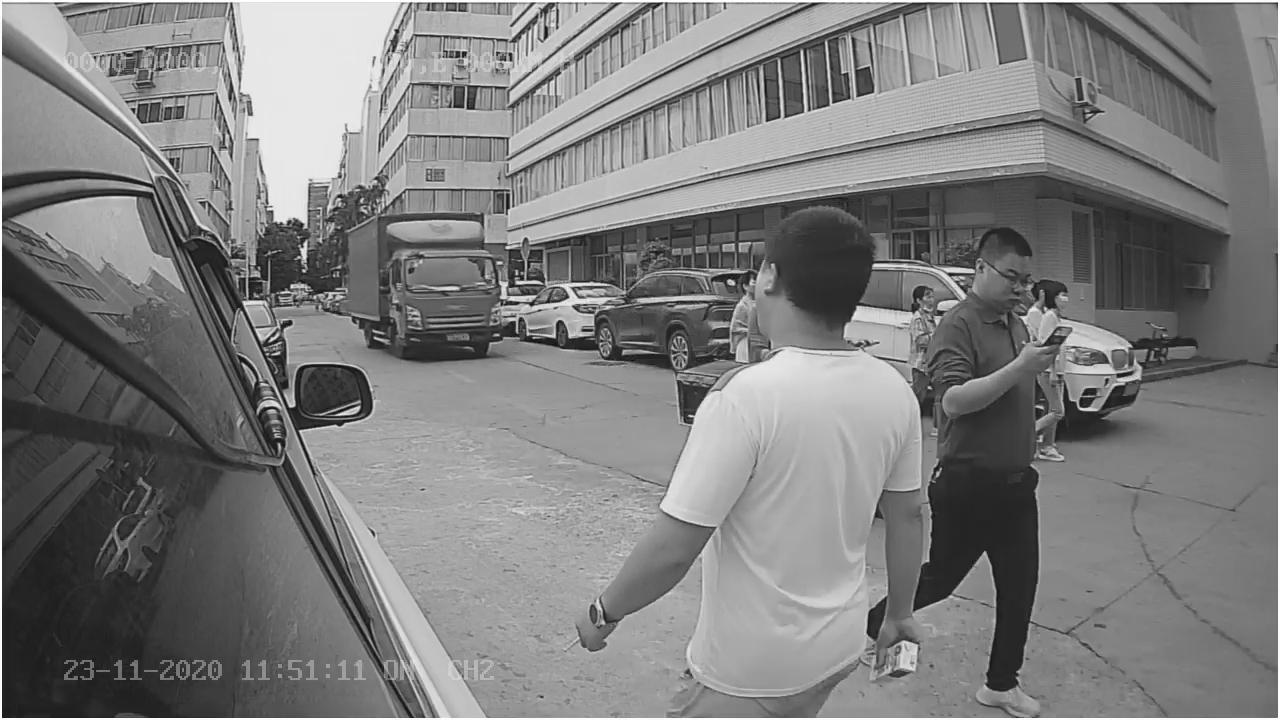person: (871, 224, 1055, 697)
